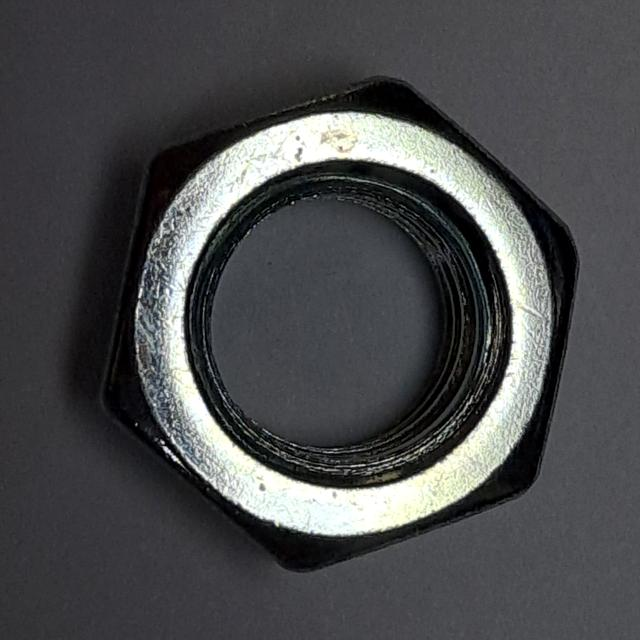Excellent: (77, 55, 591, 593)
